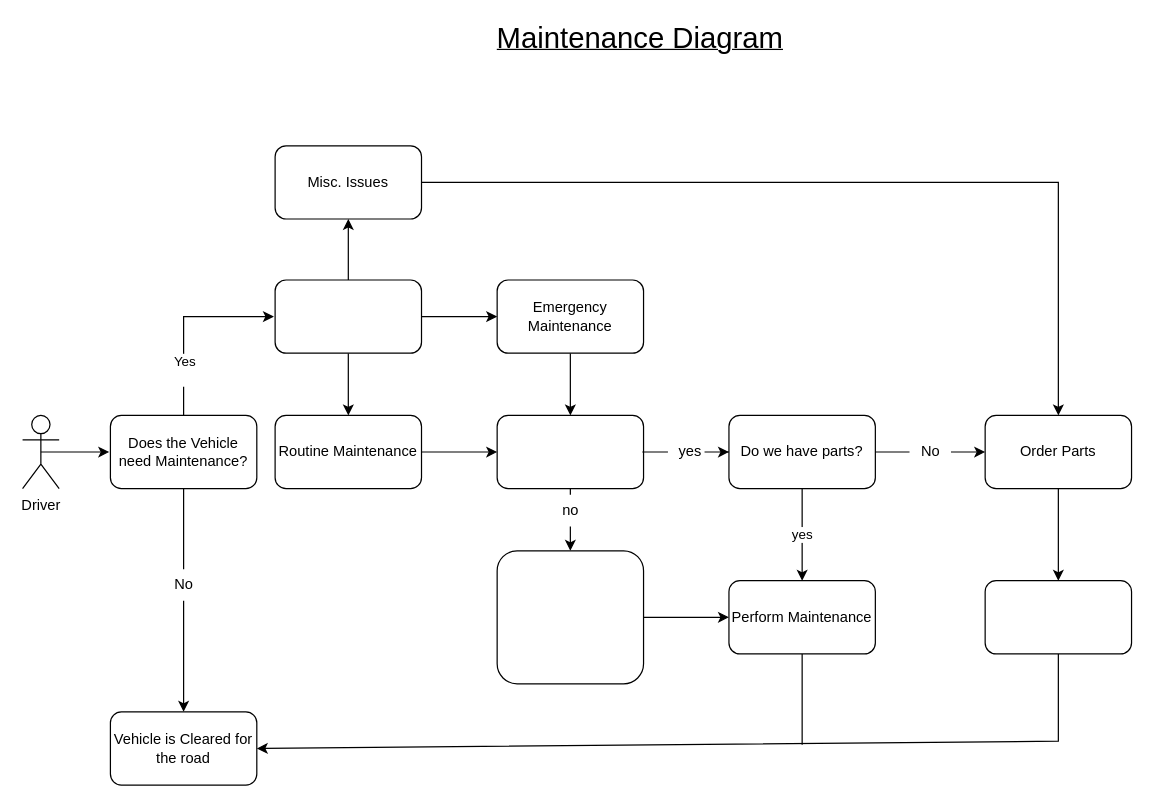
Some shapes in this 1153 by 806 pixel diagram are drawn without their labels. Here are the shapes that lost their labels. From the top down, the centre of each, then its label:
(x=348, y=316): Run Diagnostic on Vehicle
(x=570, y=451): Is this Emergency Maintenance?
(x=570, y=617): Schedule Window to perform needed Maintenance and order any parts needed
(x=1058, y=617): Perform maintenance as soon as possible
